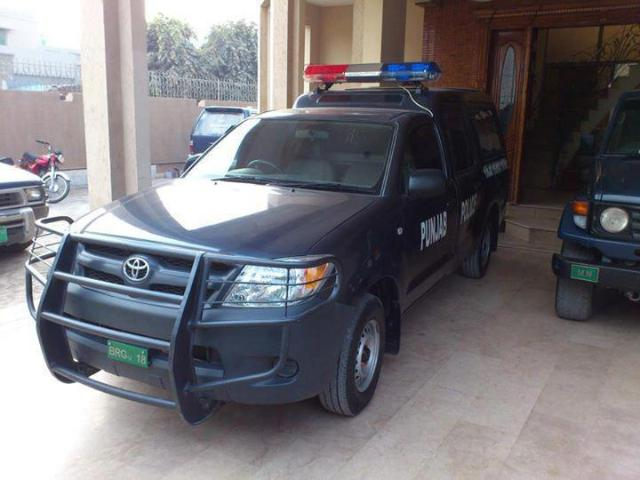police: (28, 56, 504, 422)
